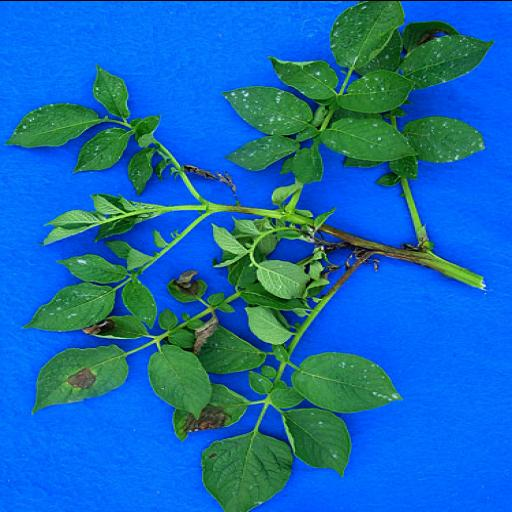disease_tomato: (27, 341, 131, 417), (170, 379, 254, 443)
